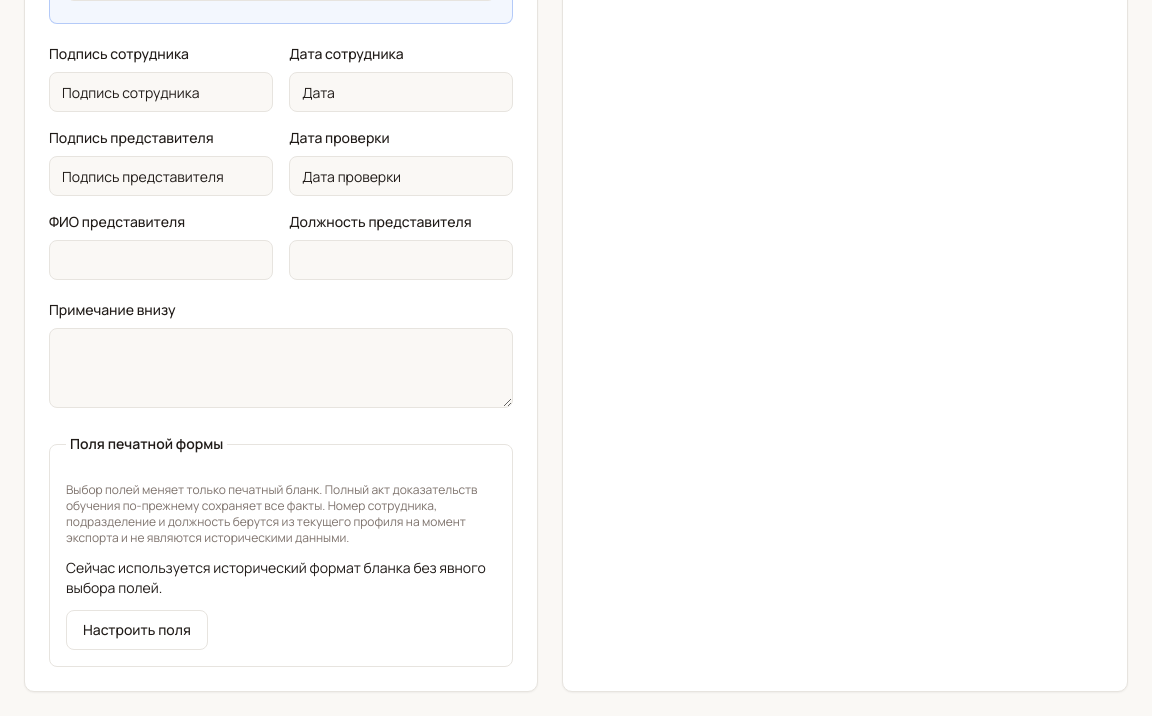
it: training evidence form field builder › keeps a legacy null template until the administrator configures fields
(page scrolled)
Click the button "Настроить поля" at (137, 630), box [66,610,208,650]
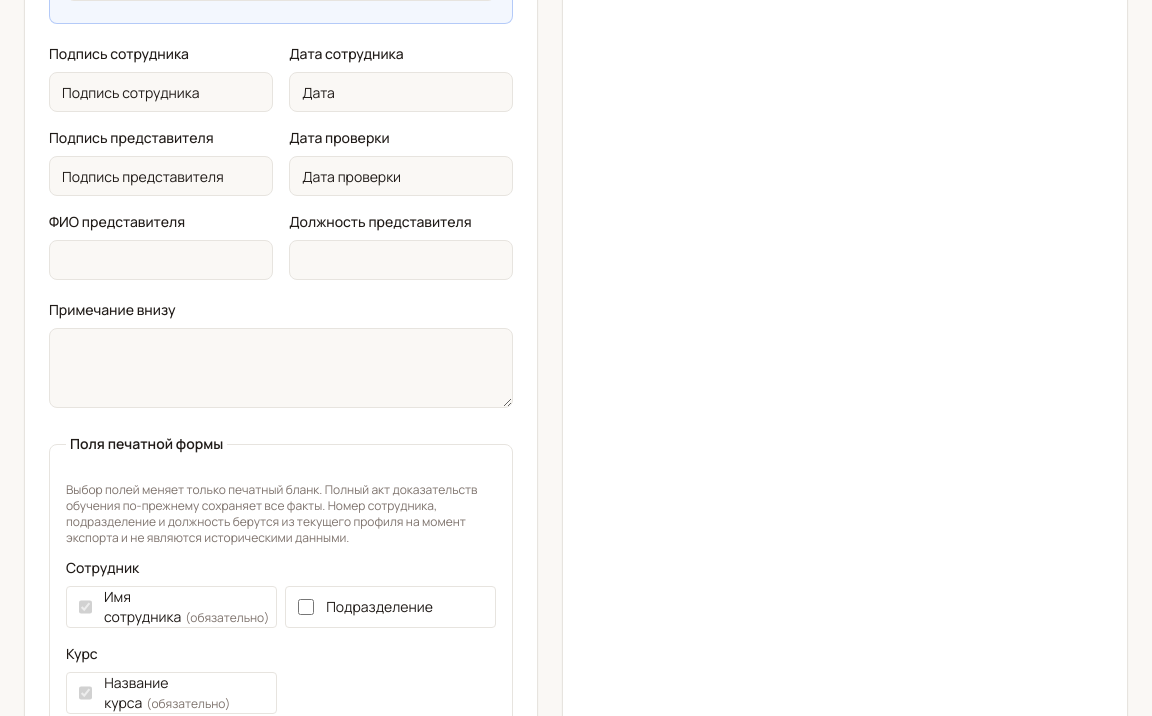
Check: the checkbox labelled "Имя сотрудника" is checked, box [79,599,92,615]
Check: the checkbox labelled "Имя сотрудника" is disabled, box [79,599,92,615]
Check: the checkbox labelled "Название курса" is checked, box [79,685,92,701]
